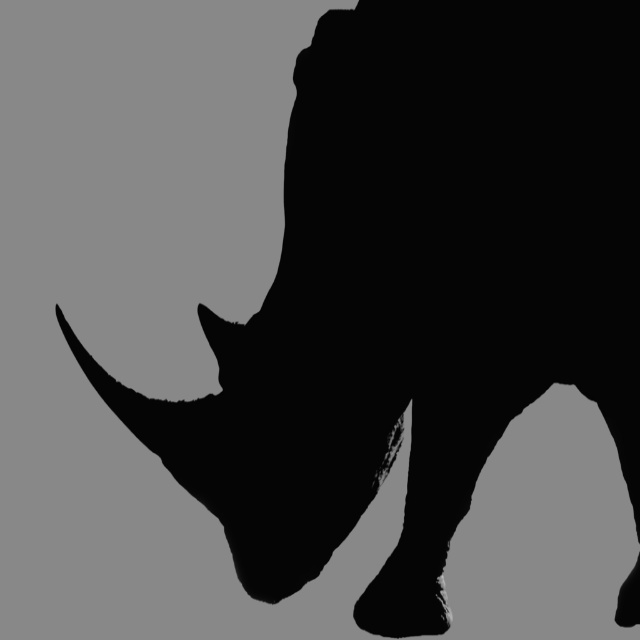Rhinoceros: (53, 0, 640, 639)
